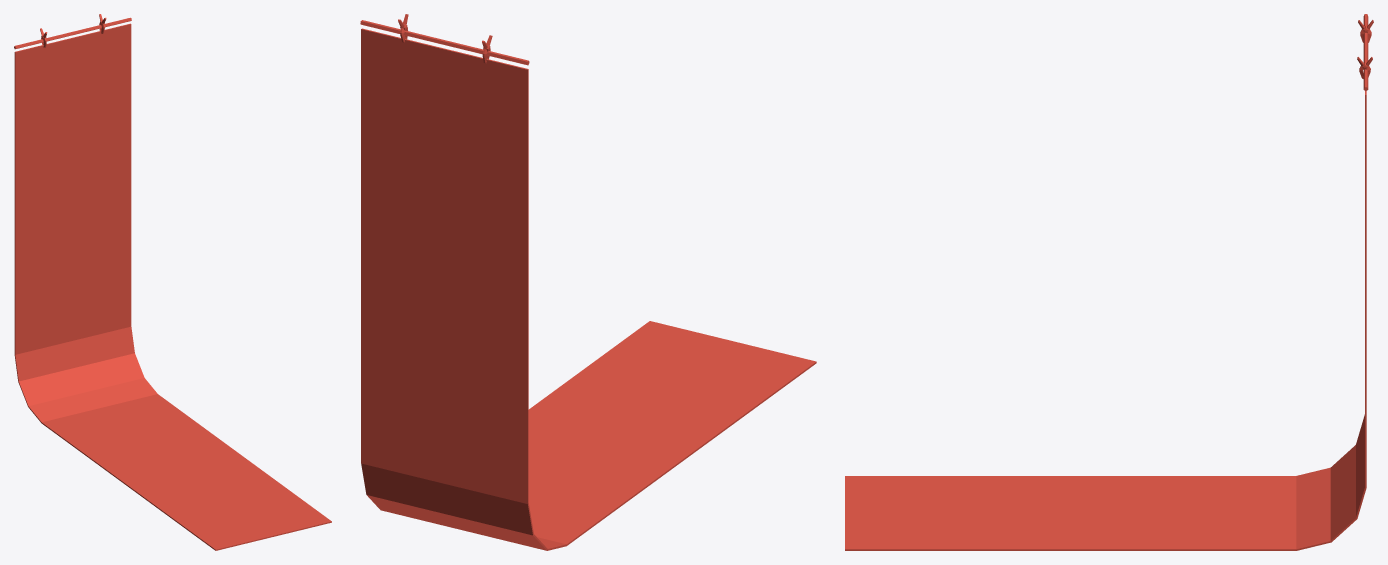
File: SM_Greenscreen_Backdrop_Middle.fbx
3 renders of one model, left to right at view 1: azimuth 30°, elevation 25°; view 2: azimuth 150°, elevation 25°; view 3: azimuth 270°, elevation 25°, orthographic. The views are drawn at different scales.
Visible parts, largest first — view 1: SM_Greenscreen_Backdrop_Middle; view 2: SM_Greenscreen_Backdrop_Middle; view 3: SM_Greenscreen_Backdrop_Middle.
Boxes of the visible parts, x1,y1,x2,y2 form: SM_Greenscreen_Backdrop_Middle: [14, 14, 331, 550]; SM_Greenscreen_Backdrop_Middle: [360, 14, 816, 550]; SM_Greenscreen_Backdrop_Middle: [845, 14, 1373, 550].
Size of the model in its own units: 304 by 100 by 302.
